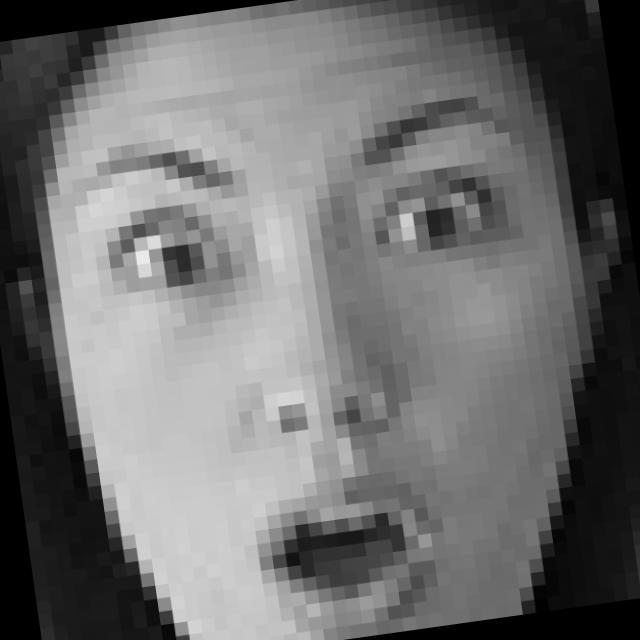surprise: (48, 78, 603, 640)
